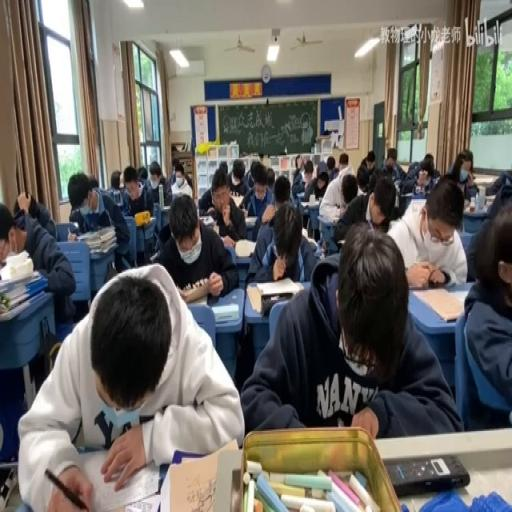calculator: (162, 439, 239, 512), (412, 286, 464, 321), (254, 274, 302, 294), (179, 279, 211, 303), (244, 284, 262, 314), (212, 302, 238, 322), (437, 266, 458, 287), (234, 238, 256, 256), (410, 198, 426, 218), (301, 224, 314, 242), (230, 194, 244, 208), (199, 215, 215, 226), (243, 214, 257, 224), (483, 194, 496, 204), (330, 212, 341, 222), (307, 198, 320, 206), (413, 186, 424, 195), (296, 191, 306, 199), (400, 192, 413, 198), (336, 238, 346, 244), (162, 205, 171, 210)
paper: (20, 262, 242, 509), (242, 223, 455, 437), (461, 200, 512, 429), (0, 195, 77, 327), (154, 192, 236, 300), (386, 178, 467, 287), (67, 171, 131, 277), (246, 195, 317, 284), (333, 170, 381, 250), (400, 151, 438, 196), (446, 150, 480, 200), (481, 170, 512, 220), (299, 161, 330, 209), (122, 178, 154, 222), (146, 158, 172, 205), (226, 156, 248, 196), (381, 145, 405, 181), (16, 191, 39, 219), (272, 174, 290, 209), (0, 204, 14, 243), (354, 164, 370, 194), (108, 168, 122, 198), (326, 154, 340, 180), (246, 161, 260, 186), (169, 155, 181, 182), (342, 183, 355, 205), (70, 206, 82, 224), (266, 168, 276, 189), (258, 151, 270, 168), (137, 165, 148, 181), (466, 154, 474, 174), (88, 174, 98, 189), (338, 155, 347, 171), (366, 155, 376, 169), (184, 172, 192, 189), (219, 161, 228, 175), (294, 156, 302, 170), (422, 164, 431, 176), (407, 164, 416, 174), (118, 176, 124, 188)
person: (386, 452, 470, 496), (260, 292, 294, 314), (320, 238, 327, 254)
